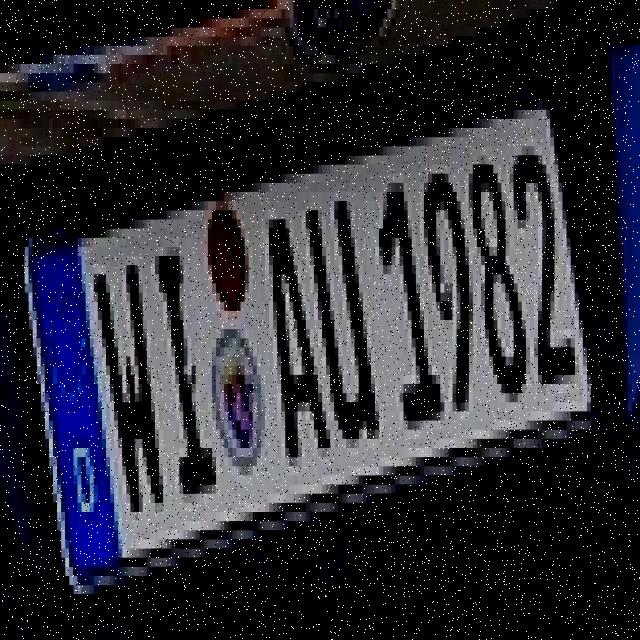licenseplate: (13, 87, 601, 588)
